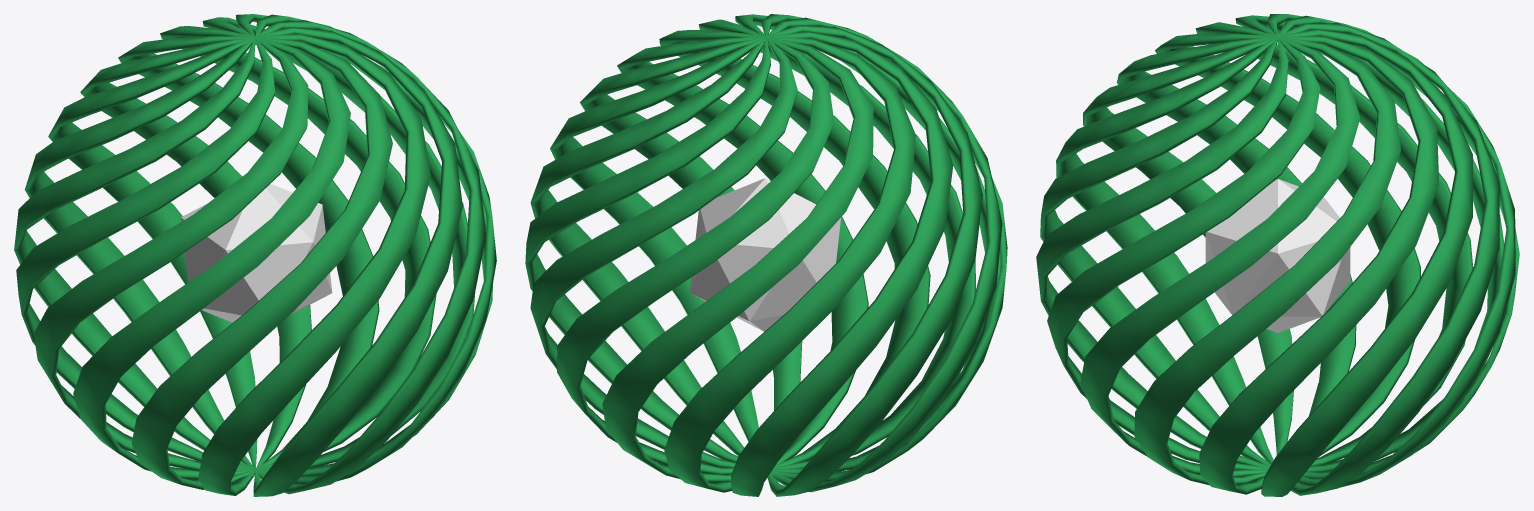
The model's file is CORE_V3.fbx.
3 views of the same model, side by side, from view 1: azimuth 30°, elevation 25°; view 2: azimuth 150°, elevation 25°; view 3: azimuth 270°, elevation 25° (orthographic).
Visible parts, largest first — view 1: Sphere.004; view 2: Sphere.004; view 3: Sphere.004.
Boxes of the visible parts, x1=… form: Sphere.004: x1=14, y1=14, x2=496, y2=496; Sphere.004: x1=525, y1=14, x2=1007, y2=496; Sphere.004: x1=1036, y1=14, x2=1519, y2=496.
Bounding box in the file's own units: 200 × 200 × 200.
